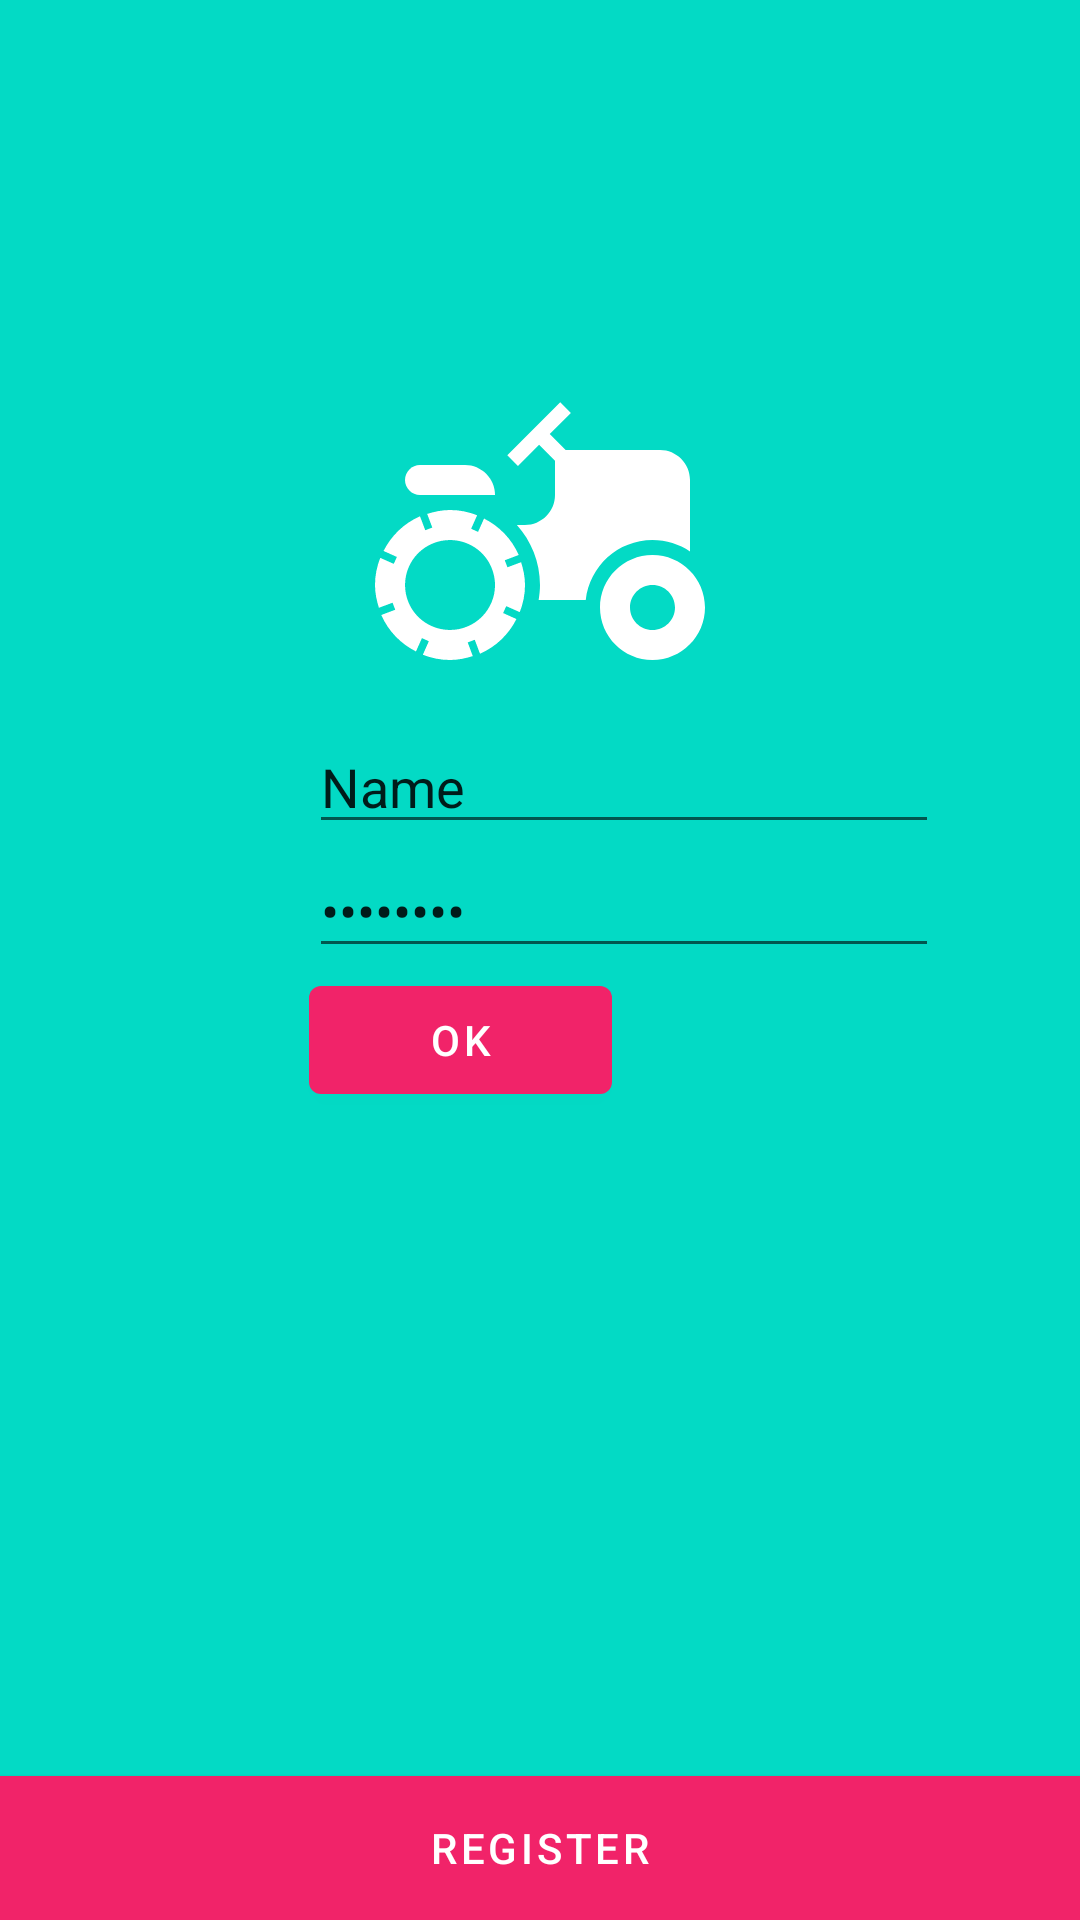

Locate icon controls on the screen. Image size 1080×1920, boxes as (x1, y1, x2, y2).
agriculture: (375, 402, 705, 660)
